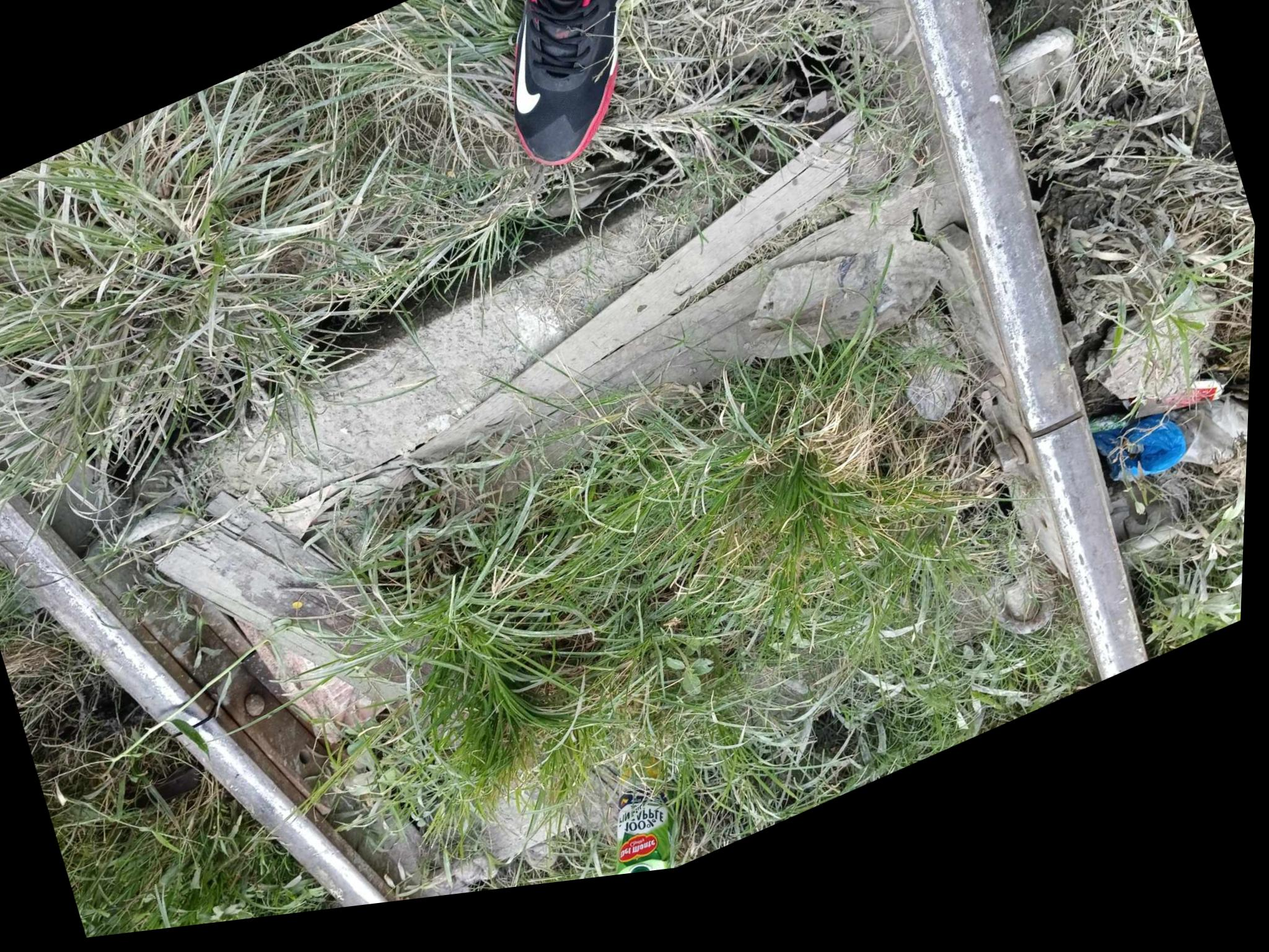person: (986, 371, 1139, 527), (133, 661, 264, 805)
